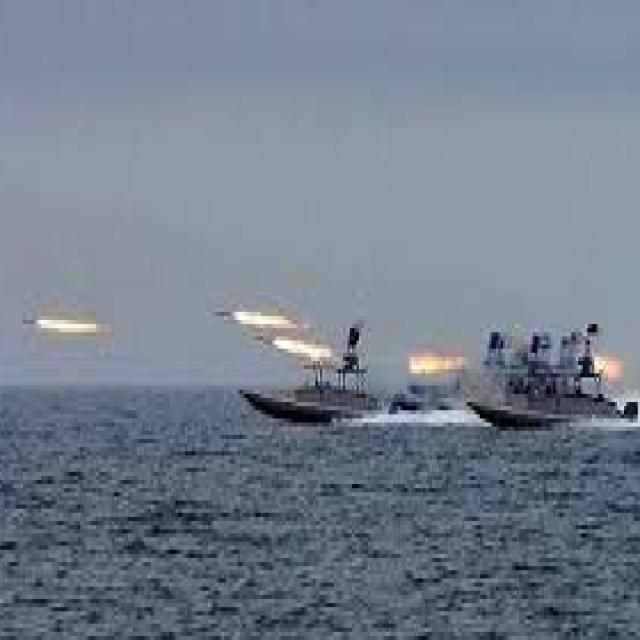navalvessels: (448, 332, 630, 431)
